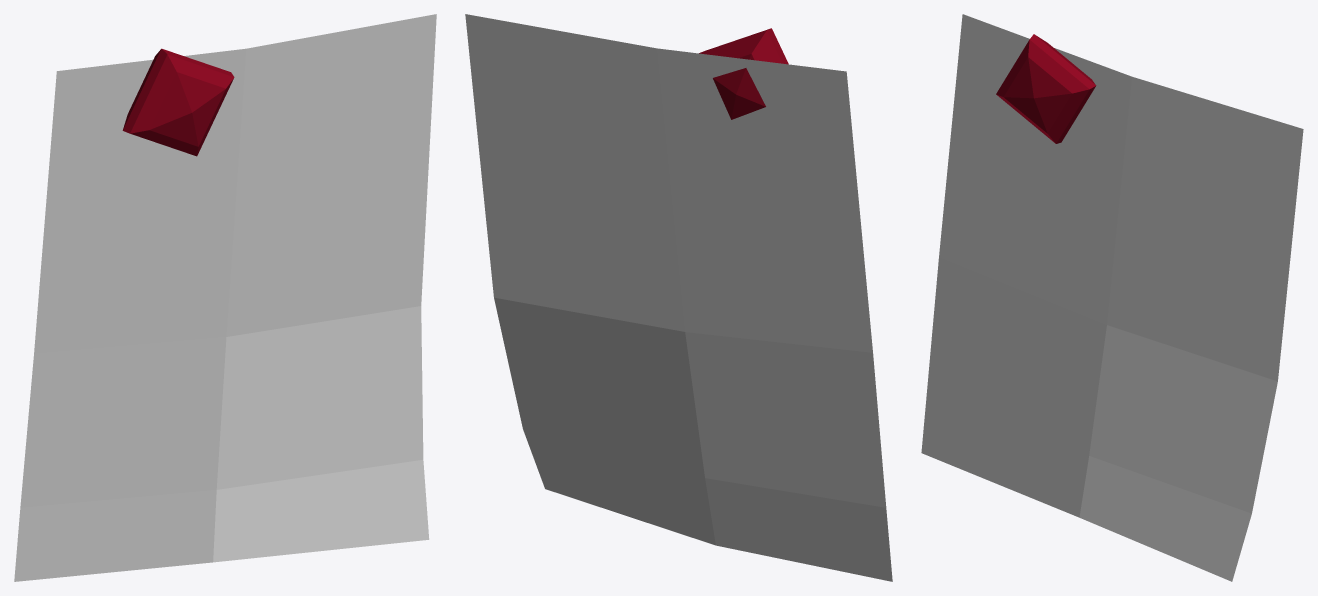
File: poster2.glb
3 renders of one model, left to right at view 1: azimuth 30°, elevation 25°; view 2: azimuth 150°, elevation 25°; view 3: azimuth 330°, elevation 25°, orthographic. The views are drawn at different scales.
Visible parts, largest first — view 1: Poster; view 2: Poster; view 3: Poster.
Part boxes in pixels (x1=…): Poster: x1=14, y1=14, x2=436, y2=581; Poster: x1=465, y1=14, x2=892, y2=581; Poster: x1=921, y1=14, x2=1303, y2=581.
Bounding box in the file's own units: 0.4532 × 0.5449 × 0.0717.
